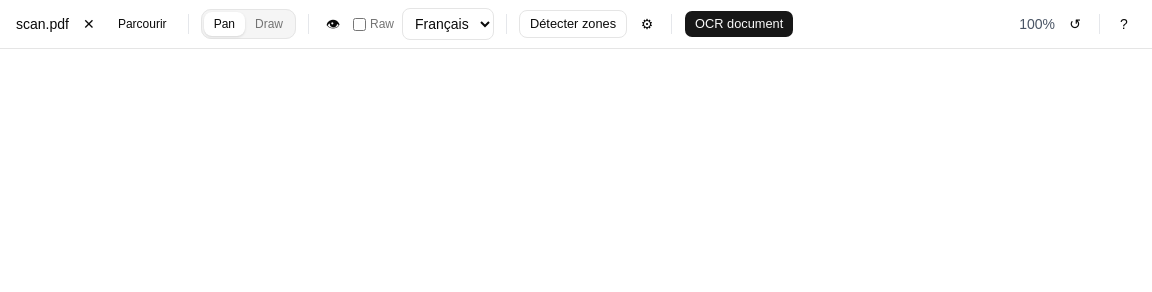
Test case: Toolbar › the help button shows keyboard shortcuts tooltip on hover
Hover over the button named "Aide et raccourcis clavier".
mouse_move(1124, 24)  # box [1112,12,1136,36]
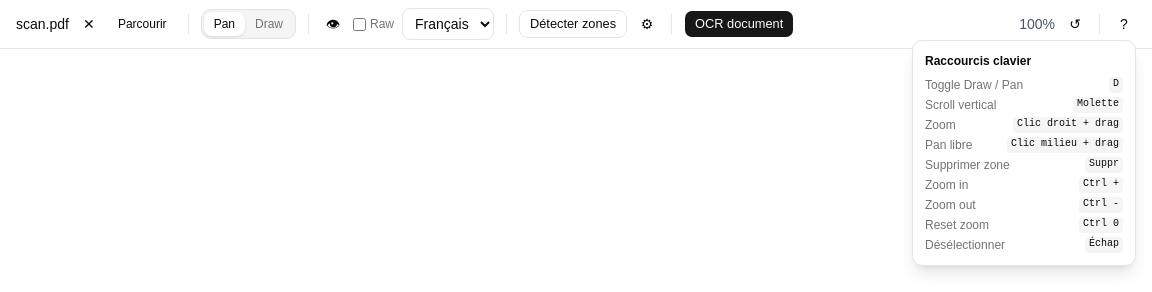
expect the text "Toggle Draw / Pan" is shown: met, box [925,77,1023,93]
expect the text "Scroll vertical" is shown: met, box [925,97,996,113]
